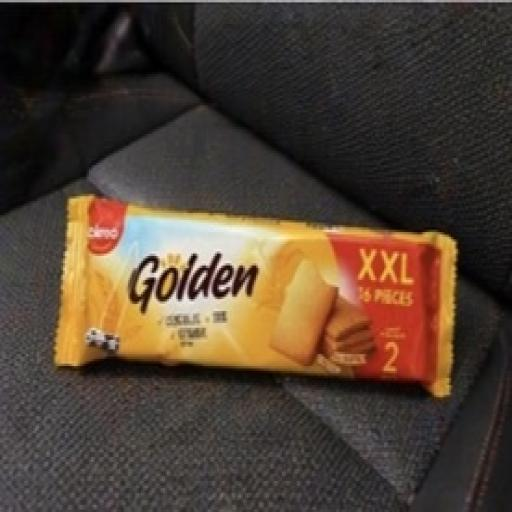golden: (34, 102, 488, 439)
